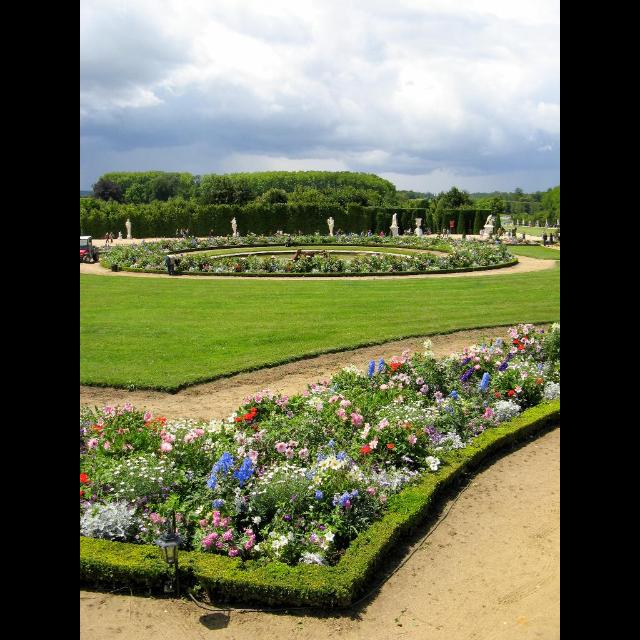Flower: (80, 324, 560, 552), (426, 457, 434, 463)
